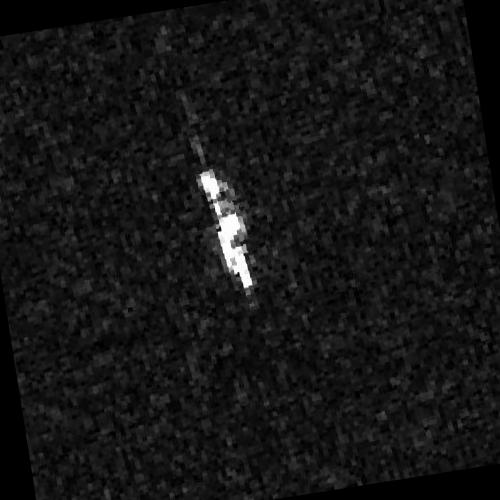ship: (196, 167, 254, 292)
